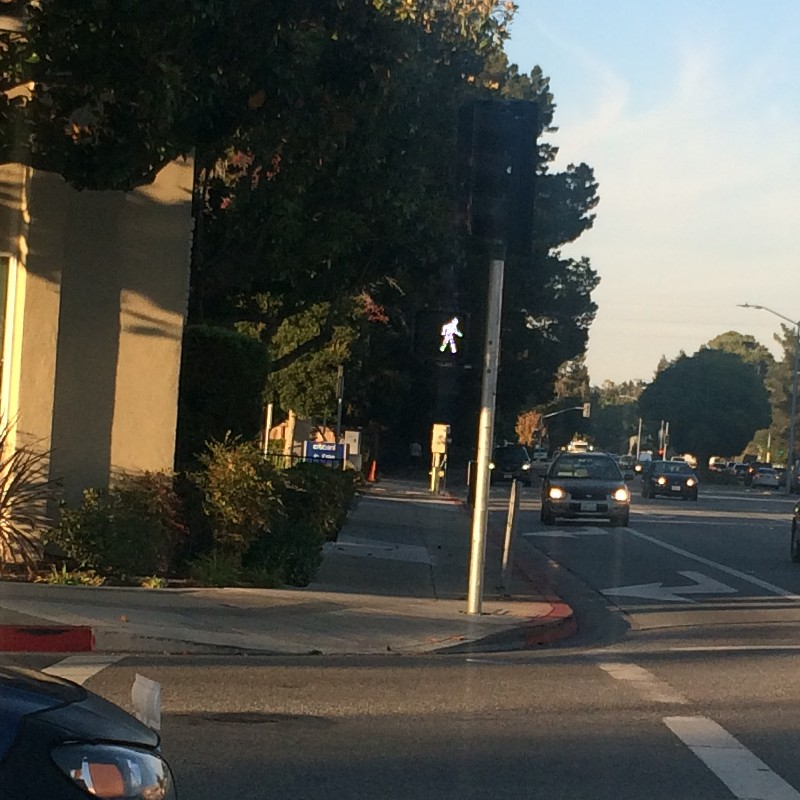go: (416, 311, 482, 370)
